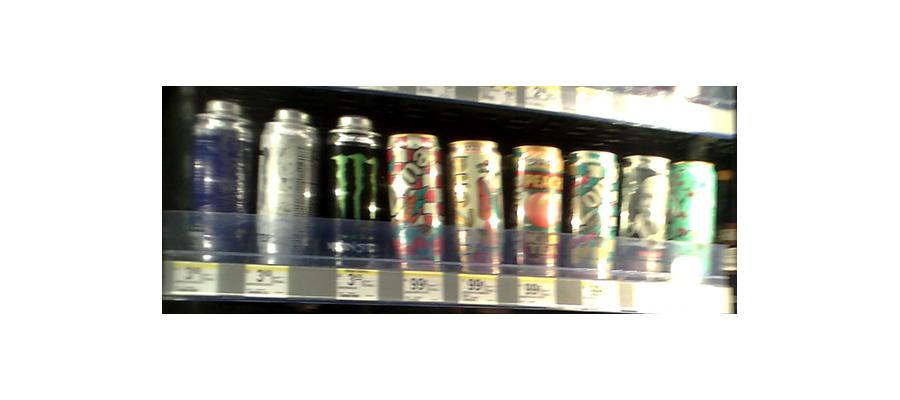bottle: (188, 97, 251, 264), (255, 107, 316, 267), (322, 116, 383, 272), (447, 140, 504, 277), (388, 136, 443, 274), (509, 139, 563, 274), (569, 146, 615, 278), (670, 159, 720, 279), (623, 152, 669, 275)
